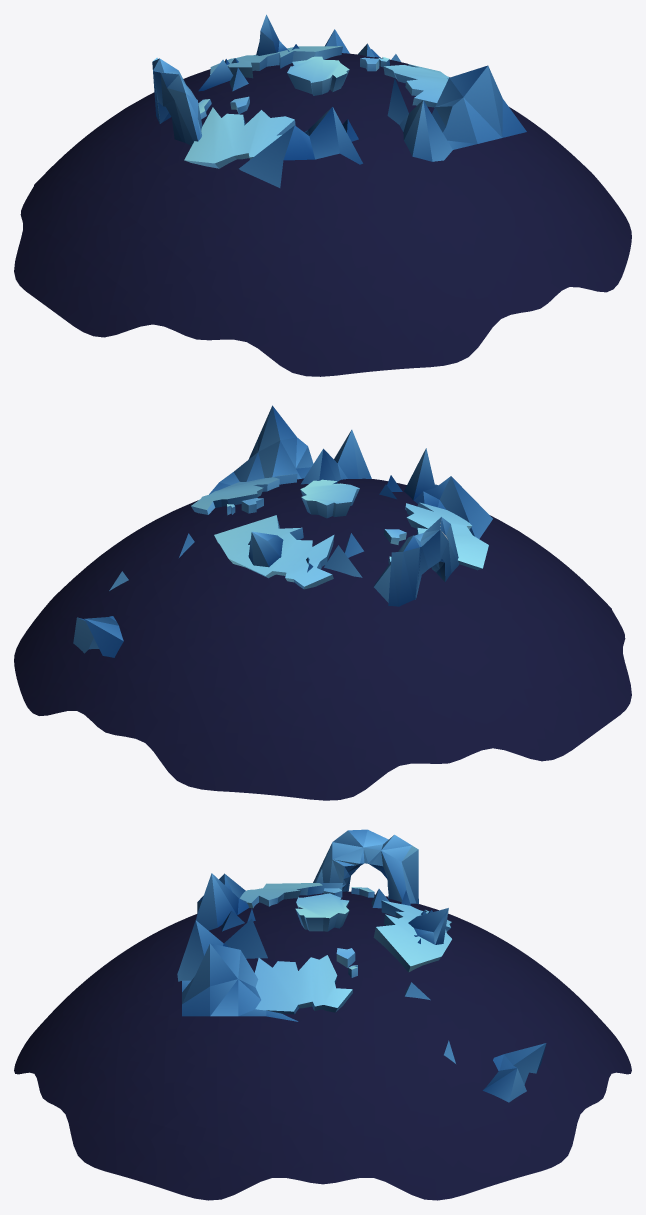
The model's file is 1_lvl-4.fbx.
3 renders of one model, top to bottom at view 1: azimuth 30°, elevation 25°; view 2: azimuth 150°, elevation 25°; view 3: azimuth 270°, elevation 25°, orthographic.
Visible parts, largest first — view 1: Icosphere, SurfPatch, Cylinder.003, SurfPatch.001, Cylinder.004, Cylinder, Cylinder.005, Cylinder.002, Cone.006; view 2: Icosphere, SurfPatch, Cylinder.005, Cylinder.004, SurfPatch.001, Cylinder.003, Cylinder, Cylinder.002, SurfPatch.002, Cone.006, Cone.002; view 3: Icosphere, SurfPatch, Cylinder.004, Cylinder.002, Cylinder.005, SurfPatch.002, SurfPatch.001, Cylinder, Cylinder.003, Cone.006.
Part boxes in pixels (box(x1,y1,x2,y2)): Icosphere: box(14, 53, 631, 376); SurfPatch: box(387, 65, 526, 161); Cylinder.003: box(184, 107, 295, 168); SurfPatch.001: box(239, 107, 362, 187); Cylinder.004: box(152, 57, 202, 145); Cylinder: box(287, 56, 349, 95); Cylinder.005: box(210, 46, 342, 78); Cylinder.002: box(383, 64, 449, 107); Cone.006: box(256, 14, 289, 55); Icosphere: box(14, 478, 631, 800); SurfPatch: box(209, 405, 371, 494); Cylinder.005: box(214, 515, 334, 589); Cylinder.004: box(374, 517, 459, 606); SurfPatch.001: box(404, 448, 492, 538); Cylinder.003: box(405, 502, 488, 570); Cylinder: box(300, 479, 359, 518); Cylinder.002: box(191, 474, 297, 514); SurfPatch.002: box(73, 616, 123, 657); Cone.006: box(248, 531, 283, 567); Cone.002: box(324, 545, 362, 577); Icosphere: box(14, 891, 631, 1200); SurfPatch: box(177, 918, 298, 1021); Cylinder.004: box(313, 829, 418, 904); Cylinder.002: box(254, 955, 352, 1014); Cylinder.005: box(373, 900, 451, 972); SurfPatch.002: box(483, 1043, 546, 1102); SurfPatch.001: box(196, 873, 248, 930); Cylinder: box(295, 893, 349, 931); Cylinder.003: box(240, 883, 342, 908); Cone.006: box(408, 908, 448, 944).
Bounding box in the file's own units: 21.43 × 7.46 × 21.99.
